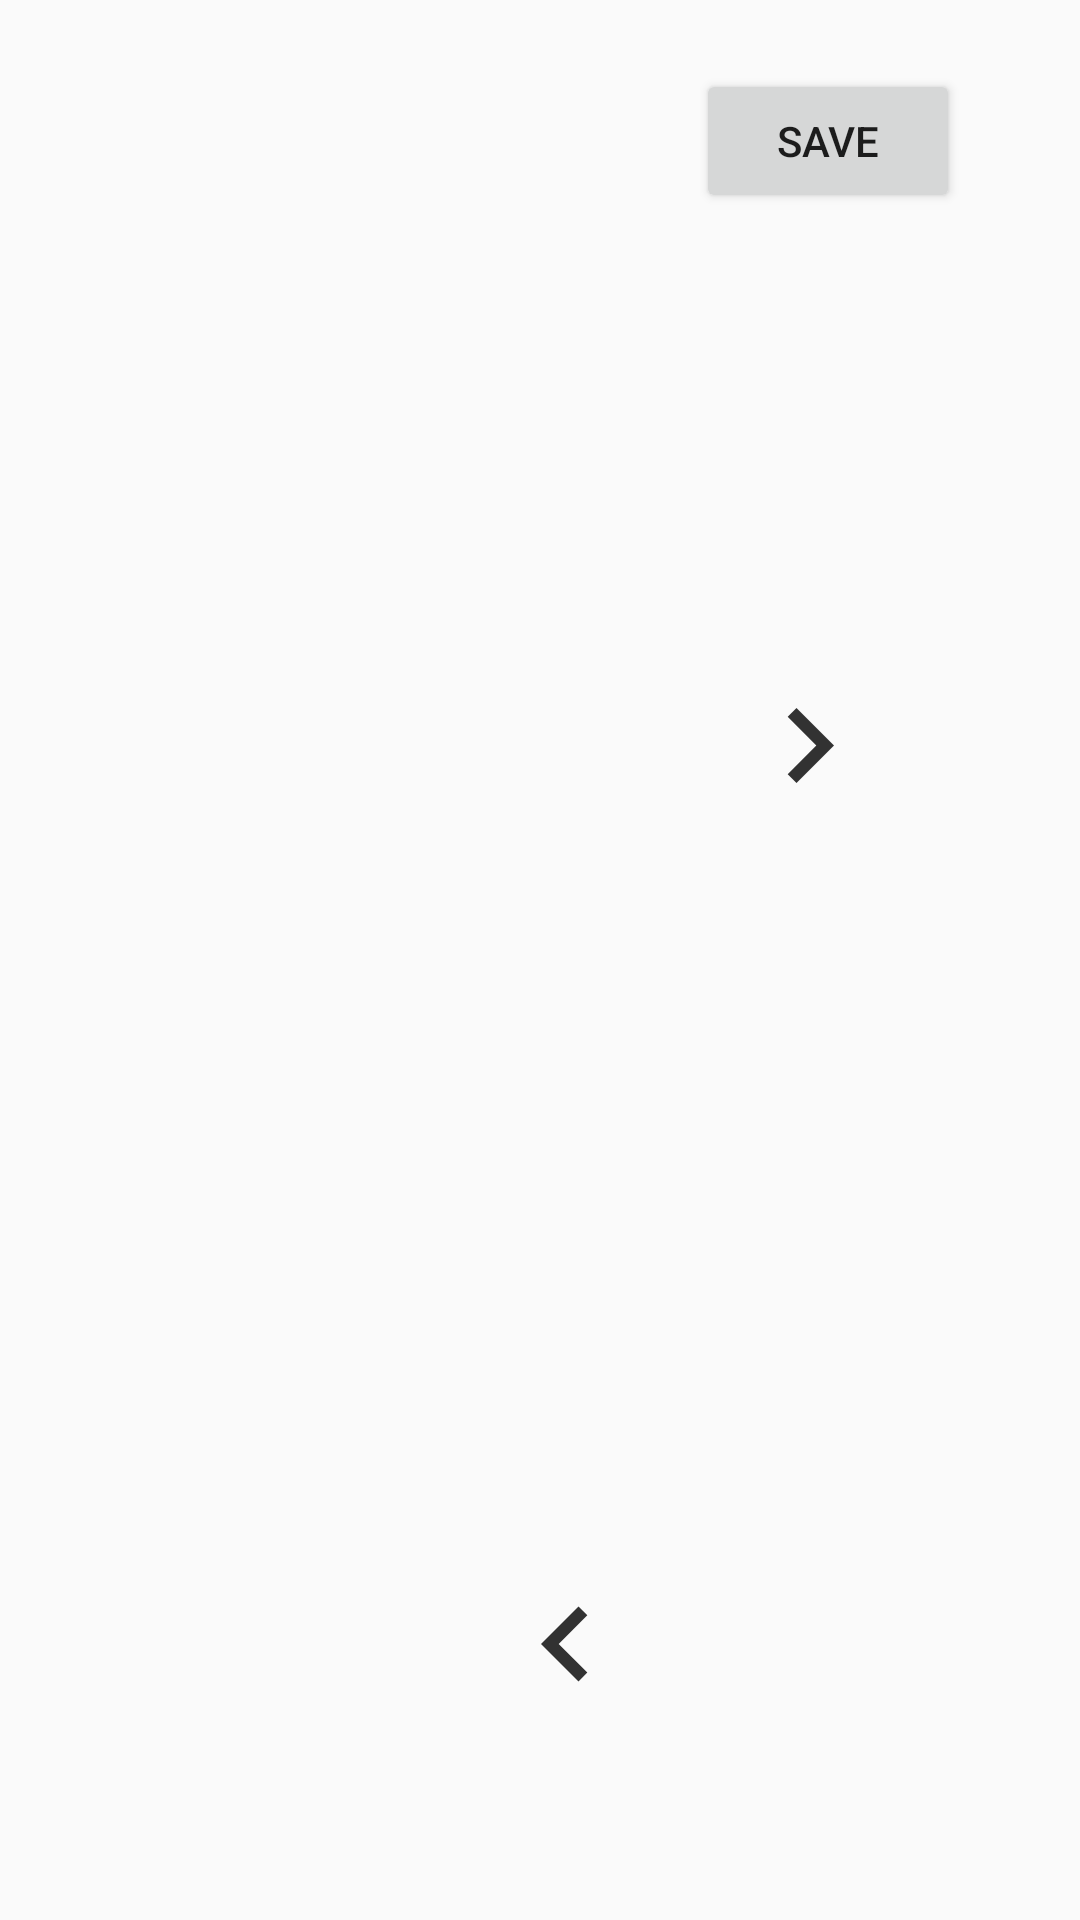

Icons on this 1080 x 1920 Android screen, each with the point to tap as (x,y):
arrow left: (564,1644)
arrow right: (811,745)
